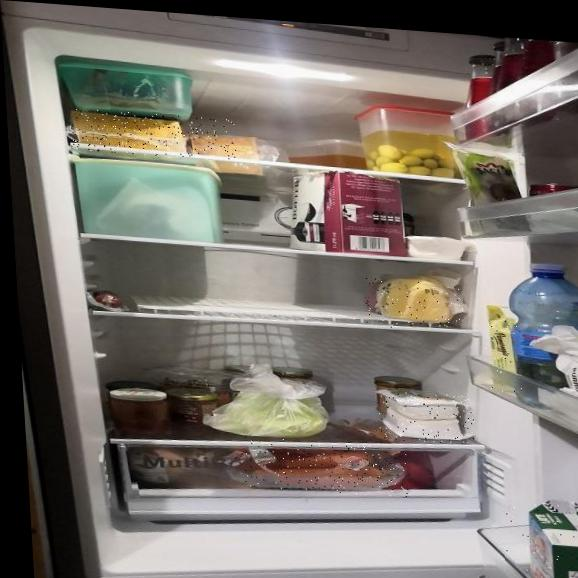butter: (483, 306, 524, 397)
carrots: (243, 436, 411, 498)
cheese: (68, 108, 236, 162), (377, 389, 475, 446), (364, 277, 463, 333)
milk: (502, 500, 578, 578)
